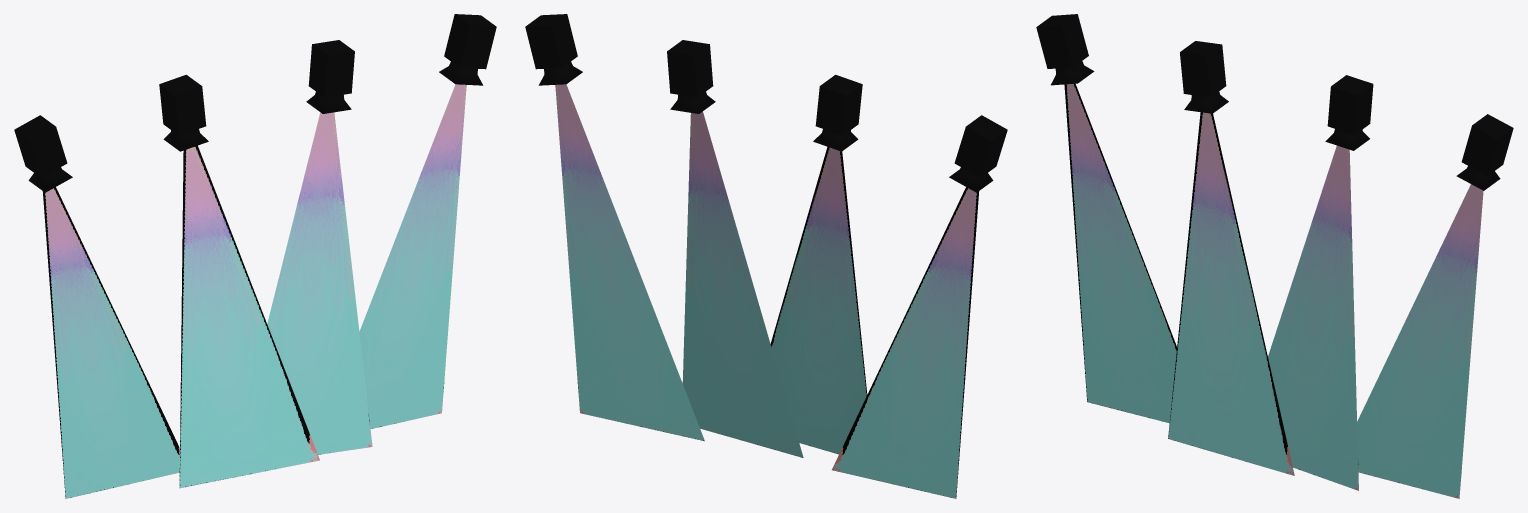
File: main_stage_animated_1.glb
3 views of the same model, side by side, from view 1: azimuth 30°, elevation 25°; view 2: azimuth 150°, elevation 25°; view 3: azimuth 330°, elevation 25° (orthographic).
Parts seen in each view (by area): view 1: Plane.048; view 2: Plane.048; view 3: Plane.048.
Boxes of the visible parts, box(x1,y1,x2,y2) form: Plane.048: box(14, 14, 496, 498); Plane.048: box(525, 14, 1007, 498); Plane.048: box(1036, 14, 1513, 498).
Size of the model in its own units: 4.22 by 3.4 by 0.4804.
2 materials, 2 textured.
